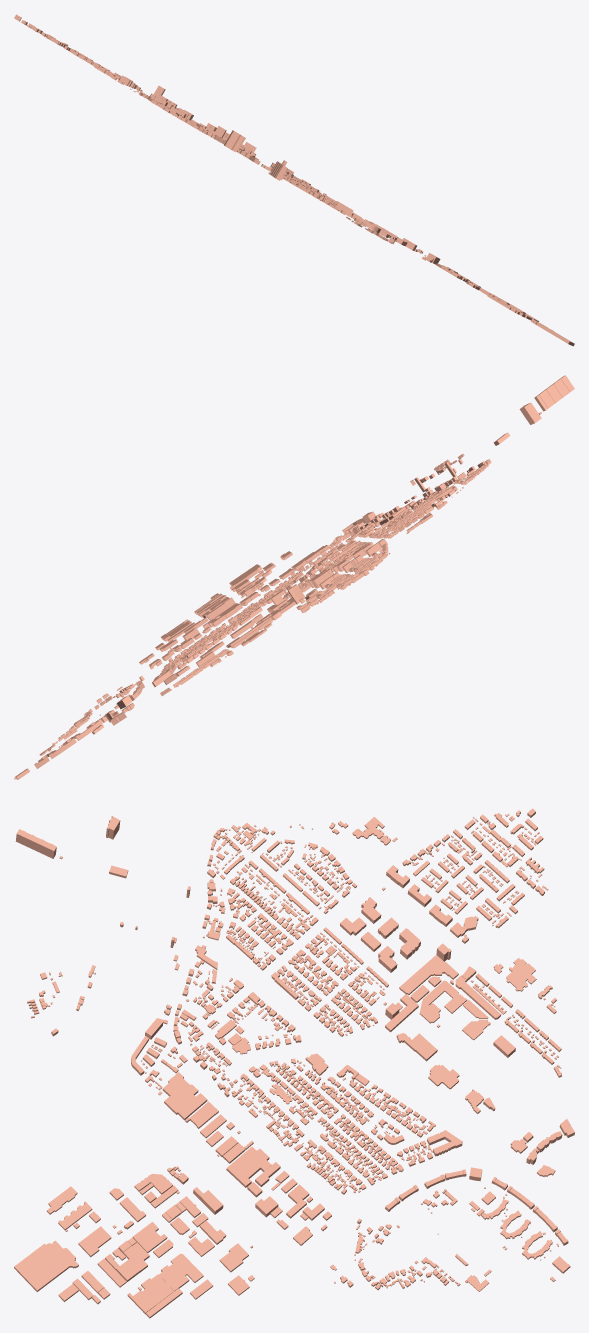
The picture shows the model from 3 angles, top to bottom: view 1: azimuth 30°, elevation 25°; view 2: azimuth 150°, elevation 25°; view 3: azimuth 270°, elevation 25°; orthographic projection. The views are drawn at different scales.
Size of the model in its own units: 1079 by 815 by 1279.
